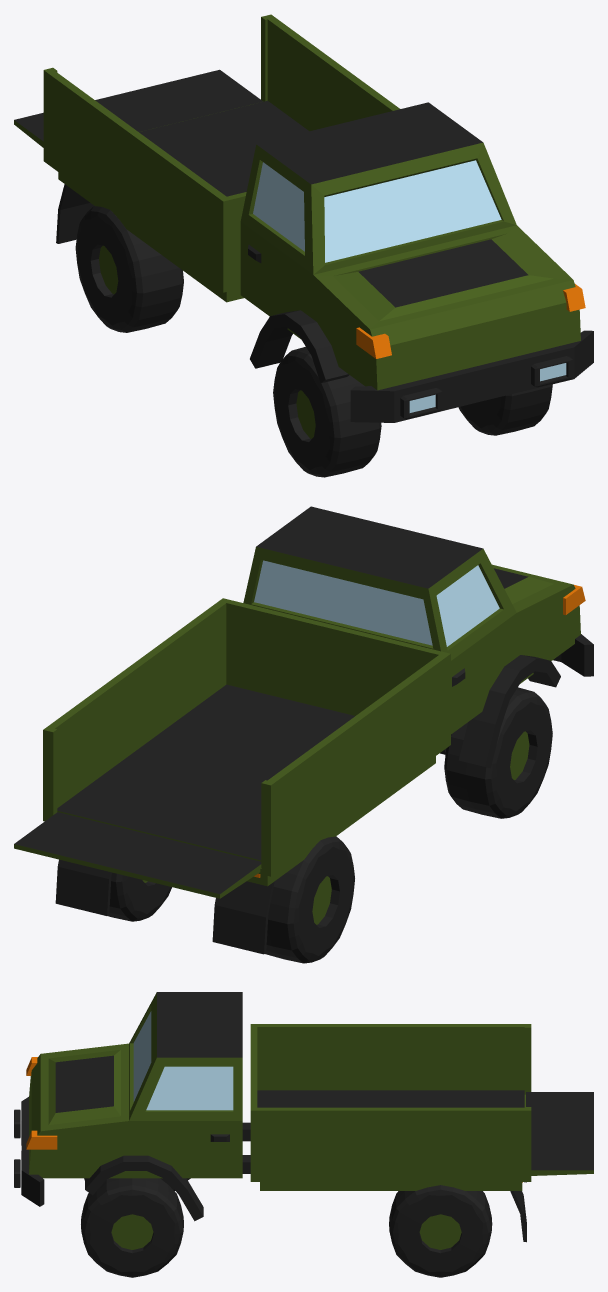
File: Heavy_Pickup.fbx
The picture shows the model from 3 angles, top to bottom: view 1: azimuth 30°, elevation 25°; view 2: azimuth 150°, elevation 25°; view 3: azimuth 270°, elevation 25°; orthographic projection. The views are drawn at different scales.
Parts seen in each view (by area): view 1: Truck; view 2: Truck; view 3: Truck.
Part boxes in pixels (box(x1,y1,x2,y2)): Truck: box(14, 14, 593, 477); Truck: box(14, 506, 593, 963); Truck: box(14, 992, 593, 1277).
Size of the model in its own units: 194 by 208 by 512.
